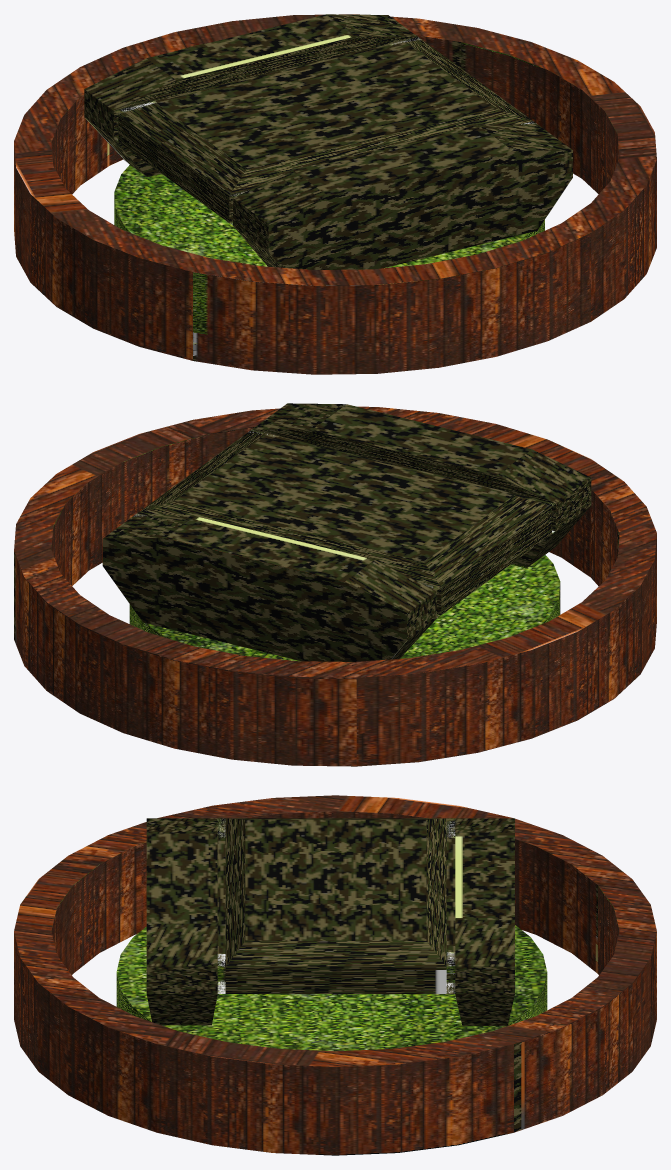
File: tower-tanque-base-wood.fbx
The picture shows the model from 3 angles, top to bottom: view 1: azimuth 30°, elevation 25°; view 2: azimuth 150°, elevation 25°; view 3: azimuth 270°, elevation 25°; orthographic projection.
Parts seen in each view (by area): view 1: Cylinder.002; view 2: Cylinder.002; view 3: Cylinder.002.
Part boxes in pixels (x1,y1,x2,y2): Cylinder.002: (14, 14, 656, 374); Cylinder.002: (14, 403, 656, 766); Cylinder.002: (14, 795, 656, 1155).
Size of the model in its own units: 1081 by 257 by 1081.
